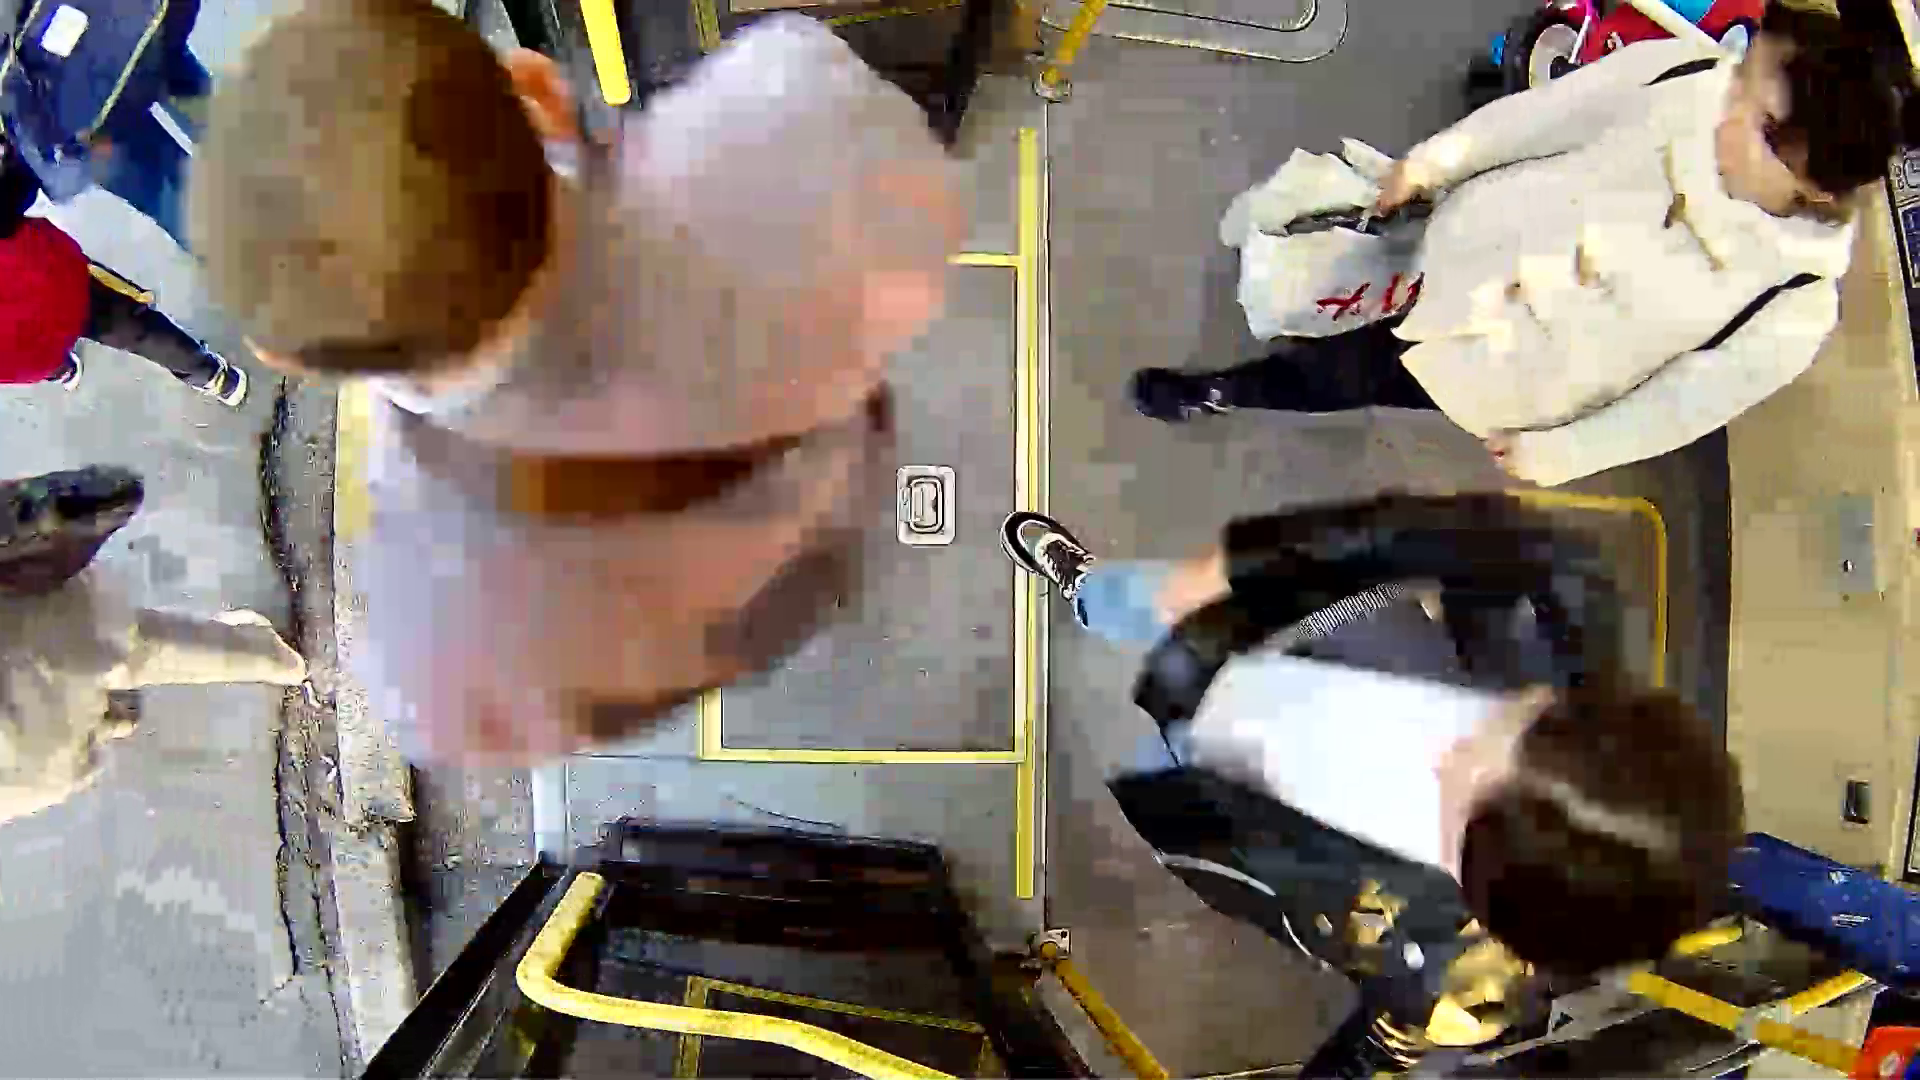person: (166, 20, 1071, 715), (1132, 459, 1811, 1045), (1224, 20, 1882, 508)
